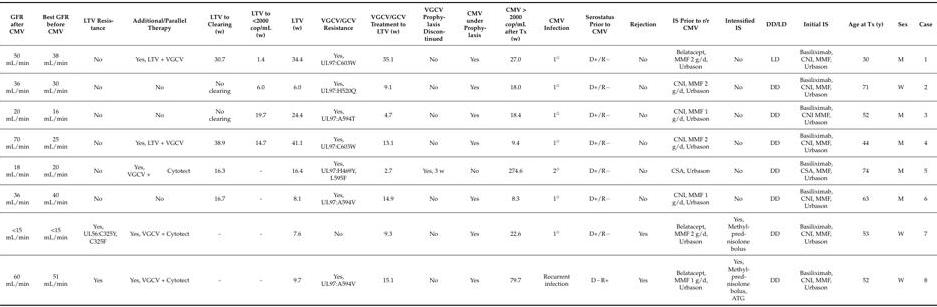table: (5, 5, 931, 301)
table column: (663, 5, 717, 301), (311, 5, 363, 301), (363, 5, 413, 301), (840, 5, 890, 301), (792, 5, 840, 301), (75, 5, 121, 301), (577, 5, 621, 301), (534, 5, 577, 301), (198, 5, 240, 301), (621, 5, 663, 301), (717, 5, 759, 301), (413, 5, 454, 301), (454, 5, 495, 301), (35, 5, 75, 301), (158, 5, 198, 301), (240, 5, 280, 301), (495, 5, 534, 301), (121, 5, 158, 301), (759, 5, 792, 301), (280, 5, 311, 301), (5, 5, 35, 301), (890, 5, 912, 301), (912, 5, 931, 301)
table column header: (5, 5, 931, 45)
table row: (5, 254, 931, 301), (5, 212, 931, 254), (5, 5, 931, 45), (5, 72, 931, 100), (5, 100, 931, 128), (5, 128, 931, 156), (5, 156, 931, 184), (5, 184, 931, 212), (5, 45, 931, 72)
table spanning cell: (121, 254, 198, 301), (121, 212, 198, 254), (121, 5, 198, 45), (121, 72, 198, 100), (121, 100, 198, 128), (121, 128, 198, 156), (121, 184, 198, 212), (121, 45, 198, 72)
